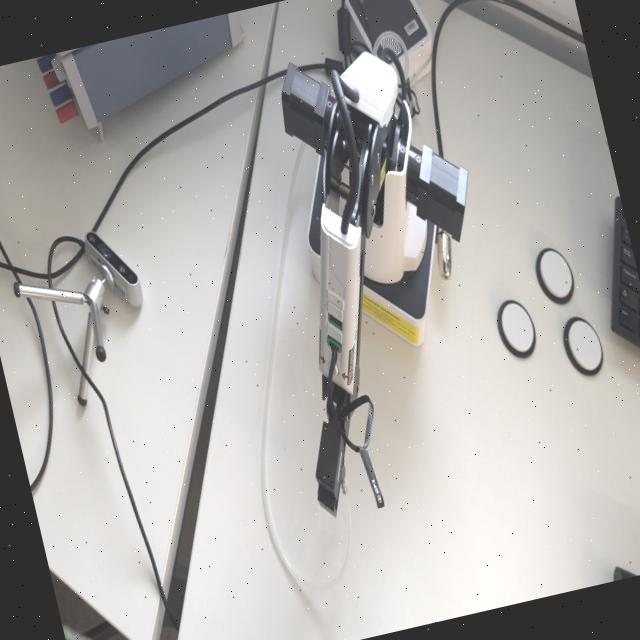Robot-end-effector-HF8z: (298, 417, 366, 531)
